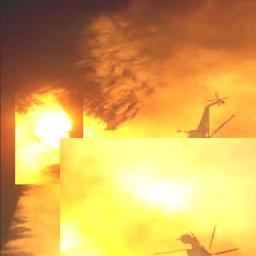Heavy smoke: (88, 3, 256, 78)
Large fire: (14, 82, 151, 249)
